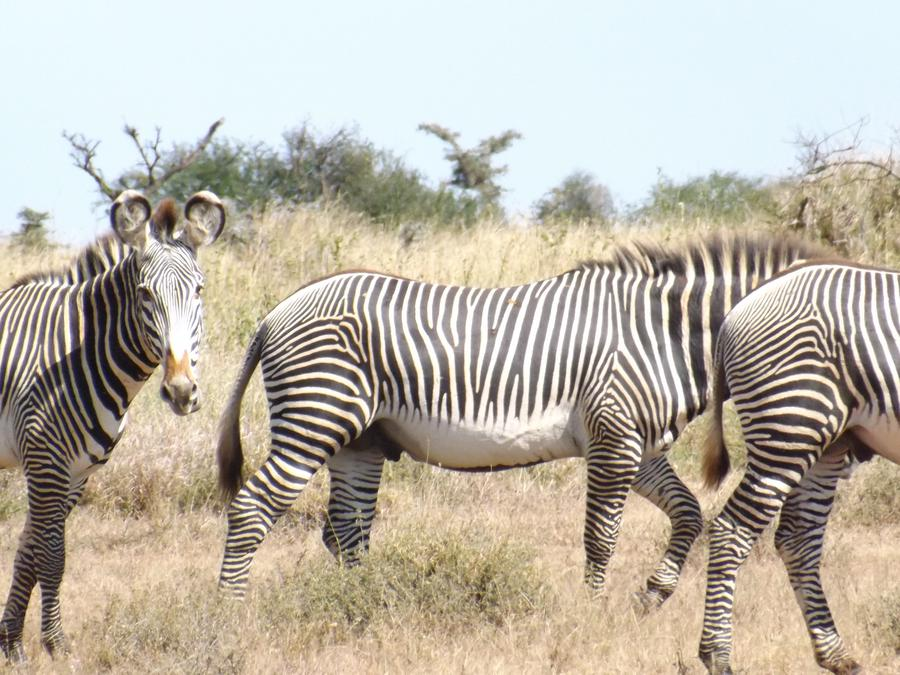zebra_grevys: (230, 251, 653, 462)
